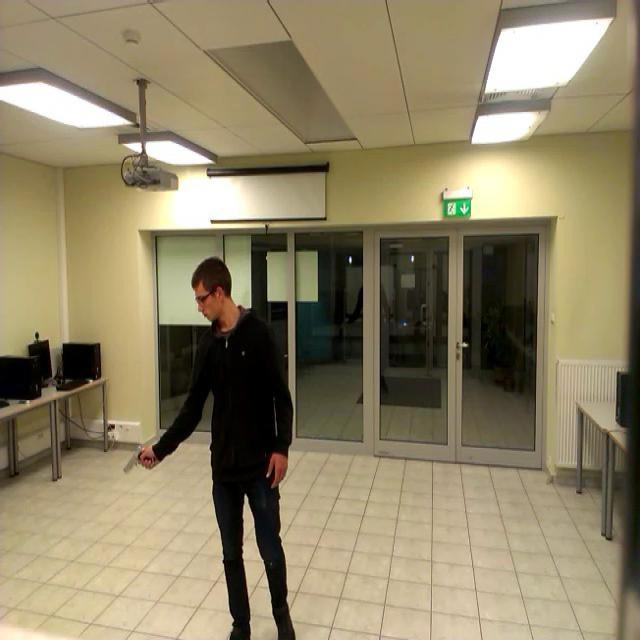weapon: (122, 446, 156, 474)
